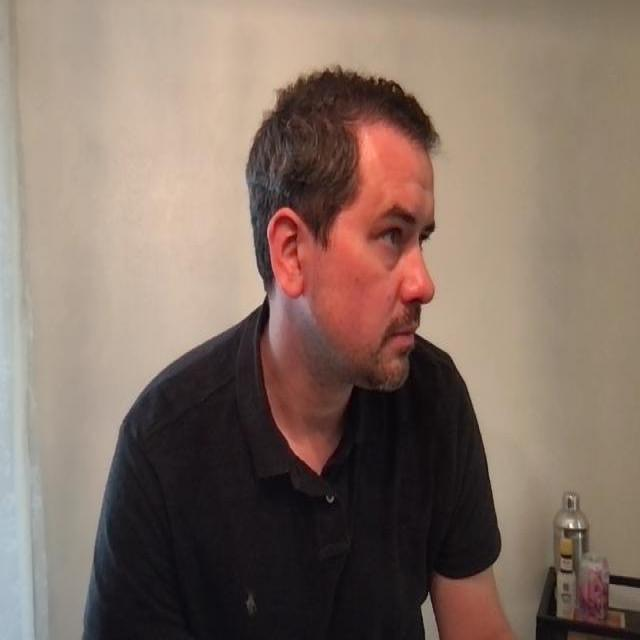face: (243, 64, 440, 389)
